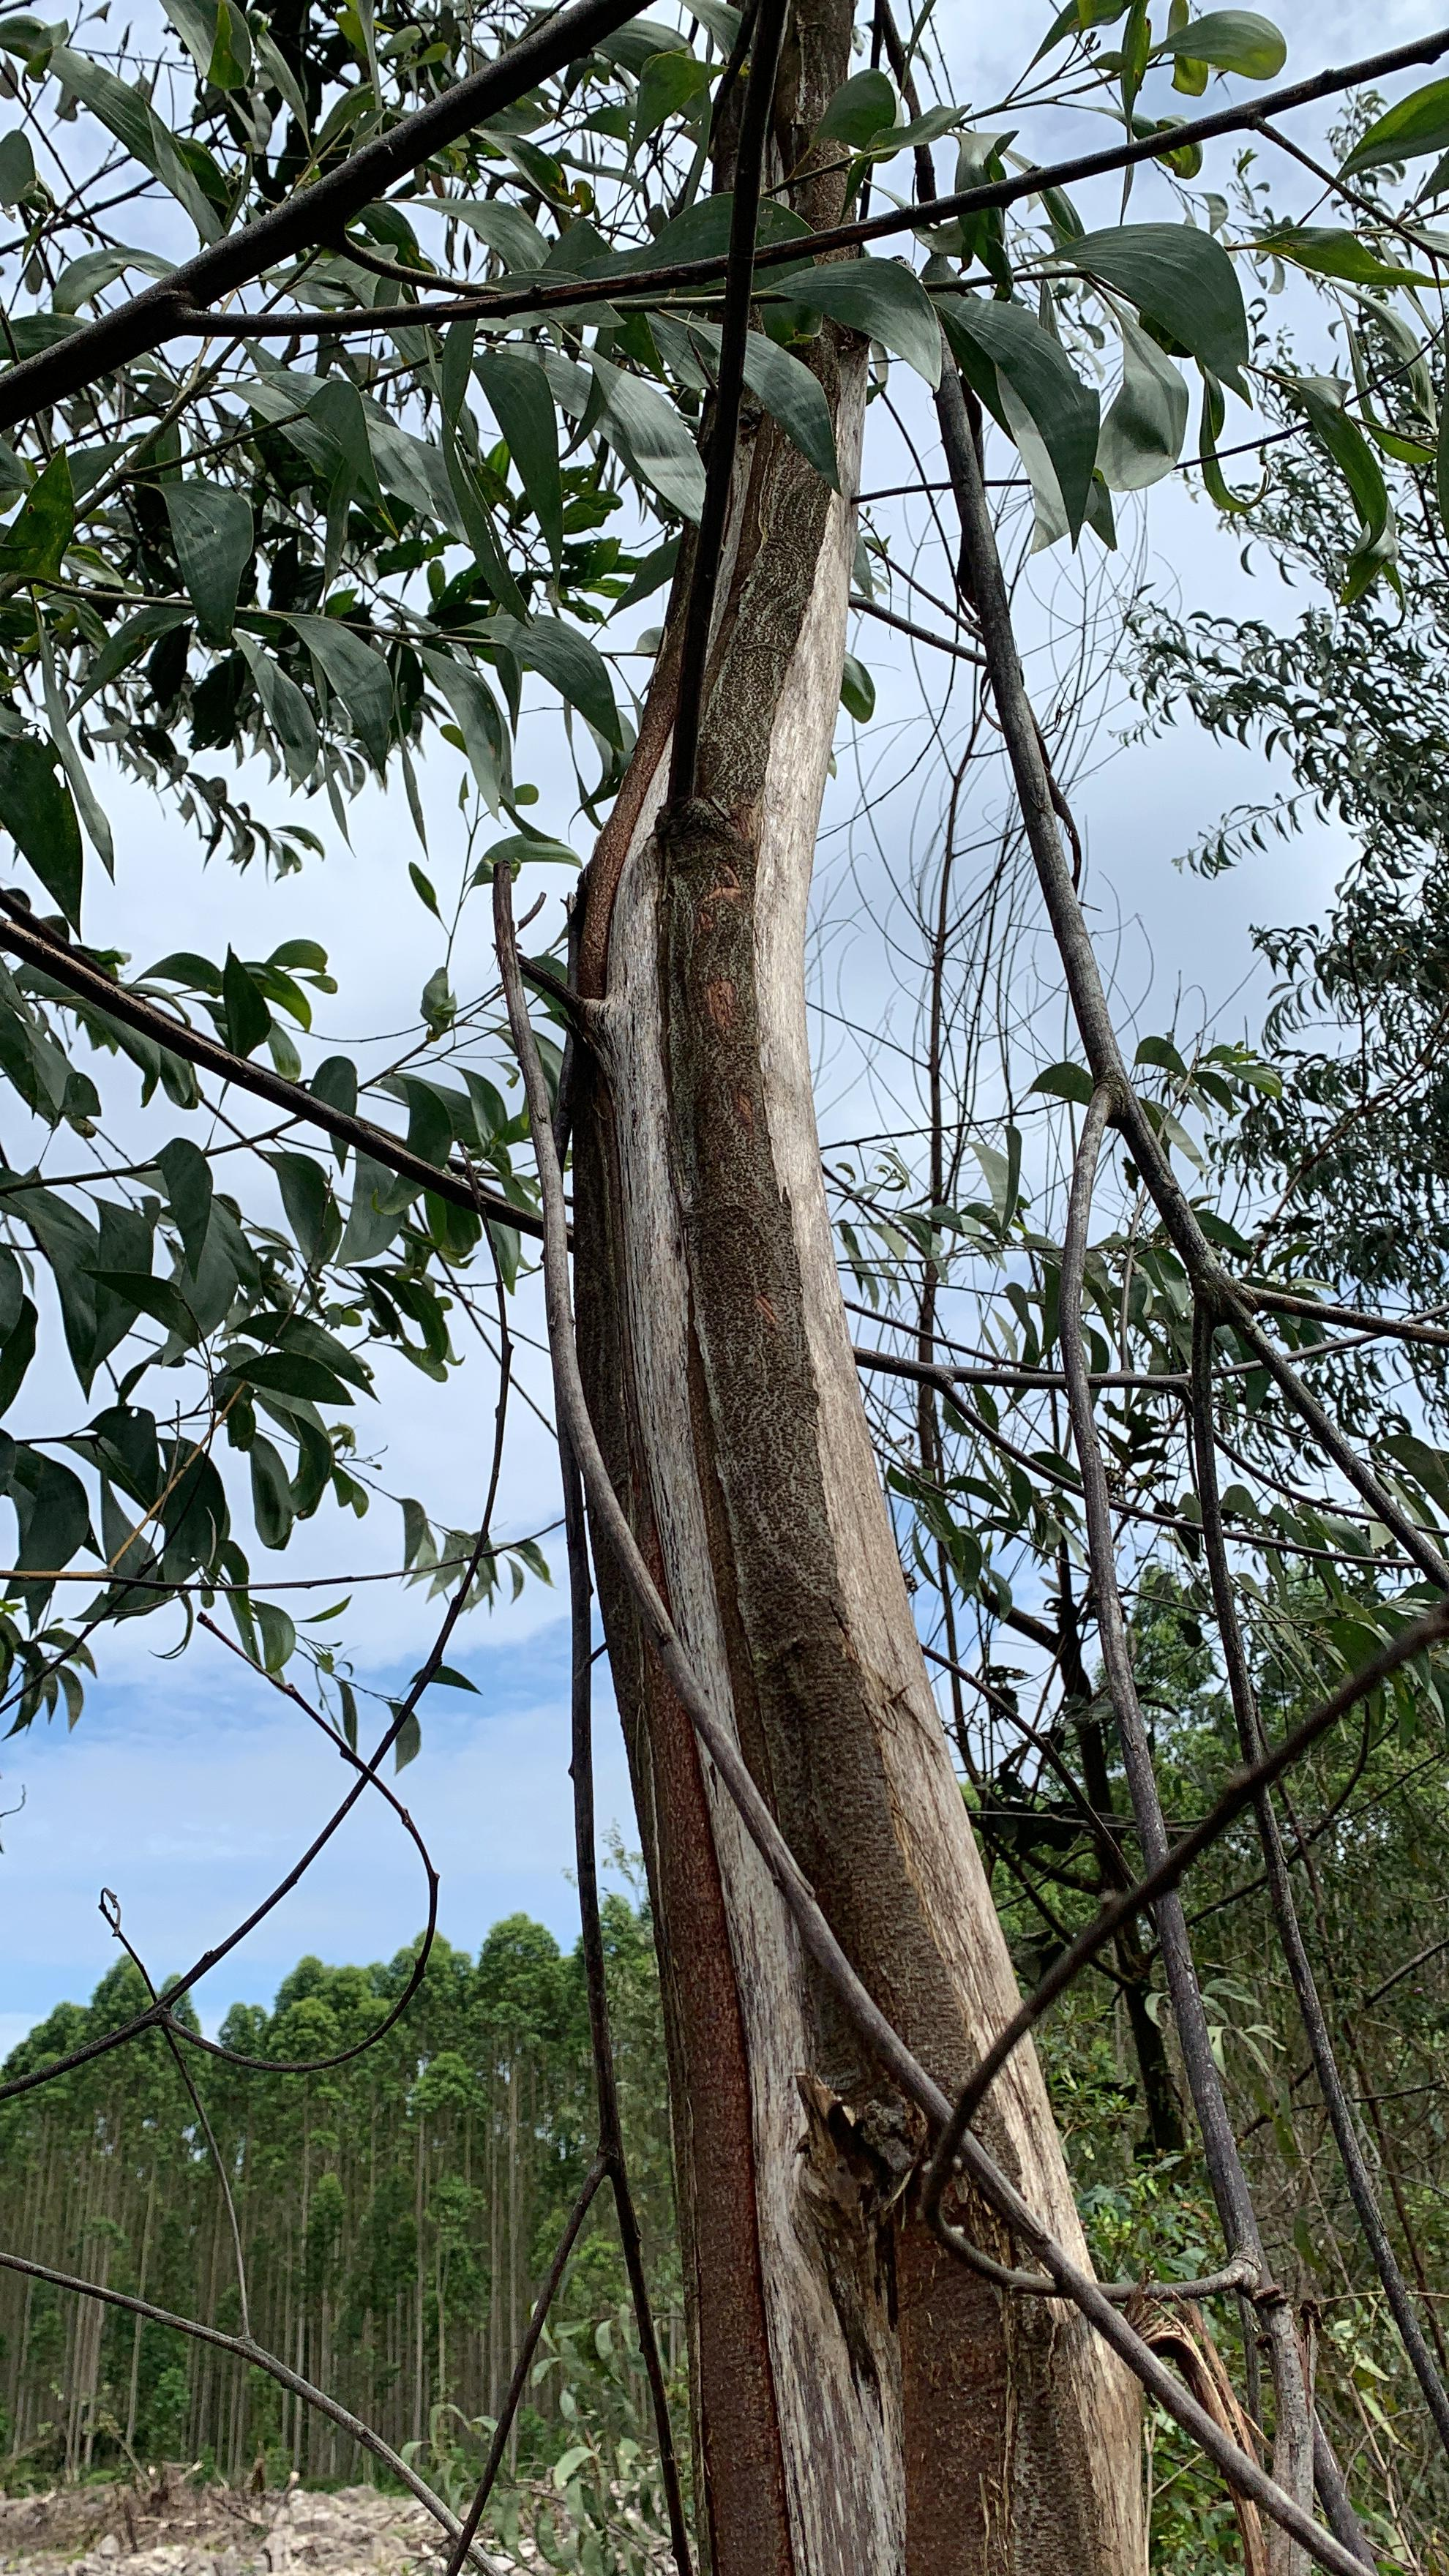Mammals Attack: (571, 12, 1162, 2576)
